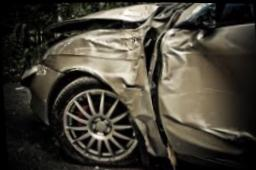Bonnet: (39, 2, 174, 60)
Door: (158, 23, 256, 162)
Fender: (48, 26, 164, 154)
